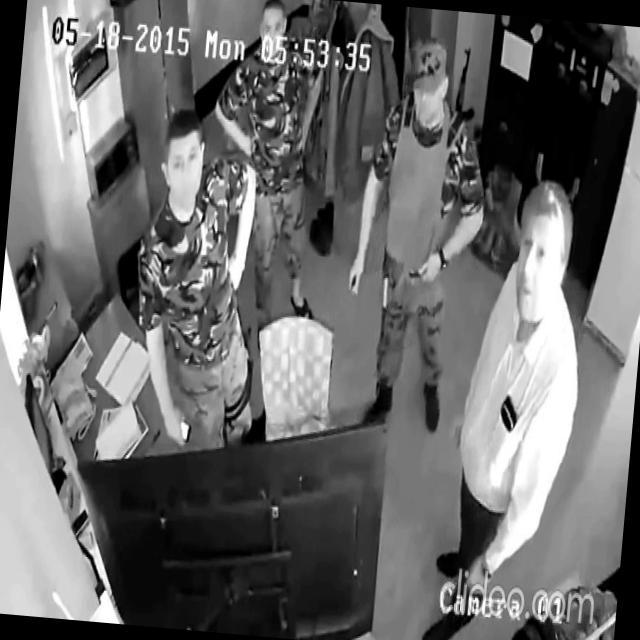gun: (374, 200, 399, 343), (453, 45, 481, 124)
person: (421, 173, 598, 640), (118, 102, 280, 458), (195, 0, 341, 330)
person with a gun: (334, 31, 498, 436)
